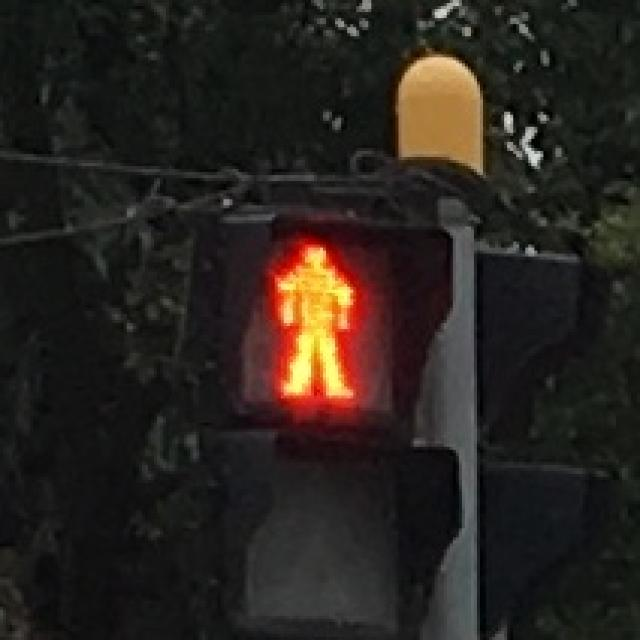red_light: (254, 220, 371, 408)
